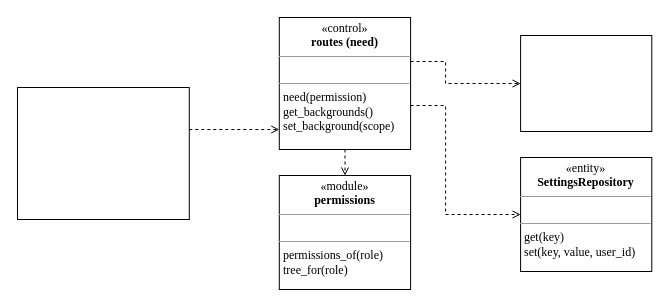
Some shapes in this 670 by 307 pixel diagram are drawn without their labels. The shapes that lost their labels are listed below. From the top down, each one's centre as x and y in pixels, then its label:
At point (586, 83): "«entity» SessionRepository user_of(token)".
At point (102, 153): "«boundary» Accounts.jsx, Background.jsx loadTree() chooseImage() save()".
